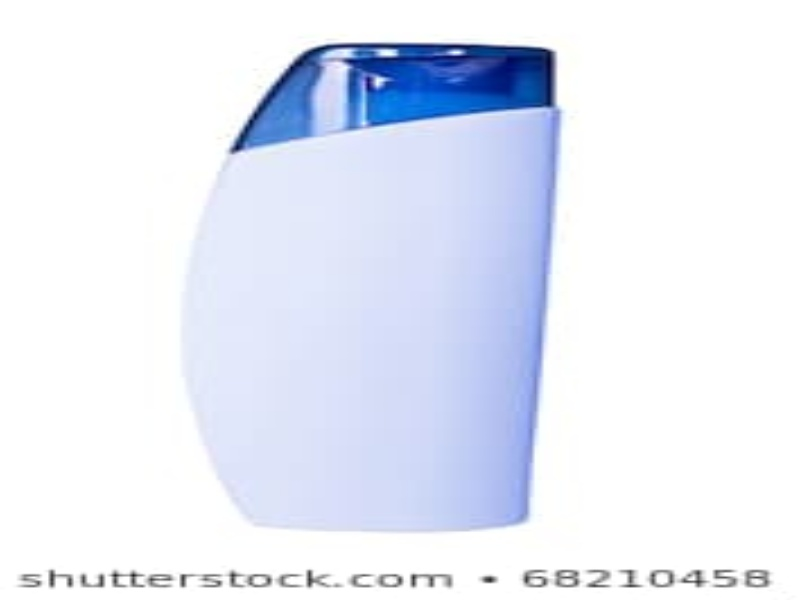shampoo-bottle: (174, 40, 566, 533)
